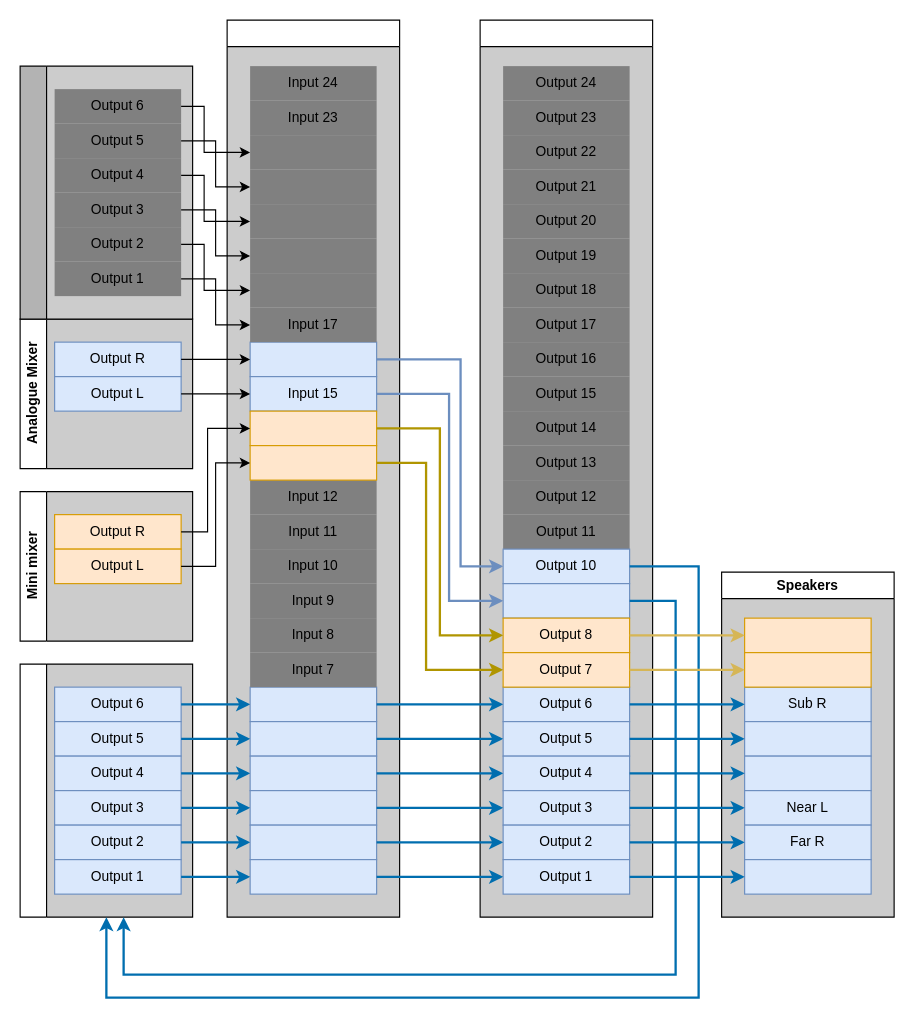
Image size: 914x1028. Some labels were removed from this diagram. The box of each missing label's shape, as (x1, y1, x2, y2) in pixels:
Far L: (743, 858, 871, 894)
Input 1: (249, 858, 377, 894)
Input 13: (249, 444, 377, 480)
Input 14: (249, 410, 377, 446)
Input 16: (249, 341, 377, 377)
Input 18: (250, 273, 376, 307)
Input 19: (250, 238, 376, 273)
Input 2: (249, 824, 377, 860)
Input 20: (250, 204, 376, 238)
Input 21: (250, 169, 376, 204)
Input 22: (250, 135, 376, 169)
Input 3: (249, 789, 377, 825)
Input 4: (249, 755, 377, 791)
Input 5: (249, 720, 377, 756)
Input 6: (249, 686, 377, 722)
Motu 828Mkii: (19, 65, 193, 319)
Near R: (743, 755, 871, 791)
Output 9: (502, 582, 630, 618)
Patch In: (226, 19, 400, 917)
Patch Out: (479, 19, 653, 917)
Sub L: (743, 720, 871, 756)
Tech Box L: (743, 651, 871, 687)
Tech Box R: (743, 617, 871, 653)
XTA Speaker Router: (19, 663, 193, 917)
